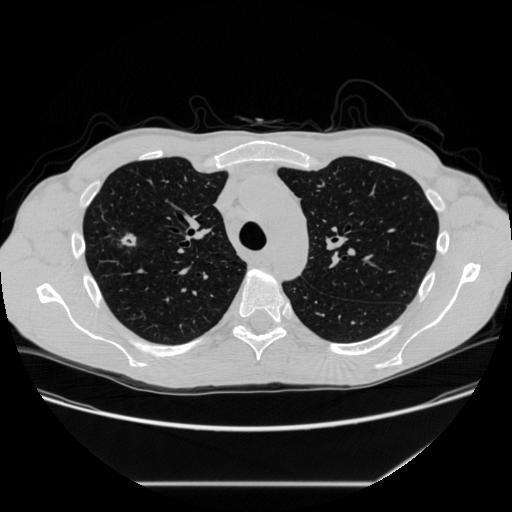nodule: (121, 231, 139, 249)
